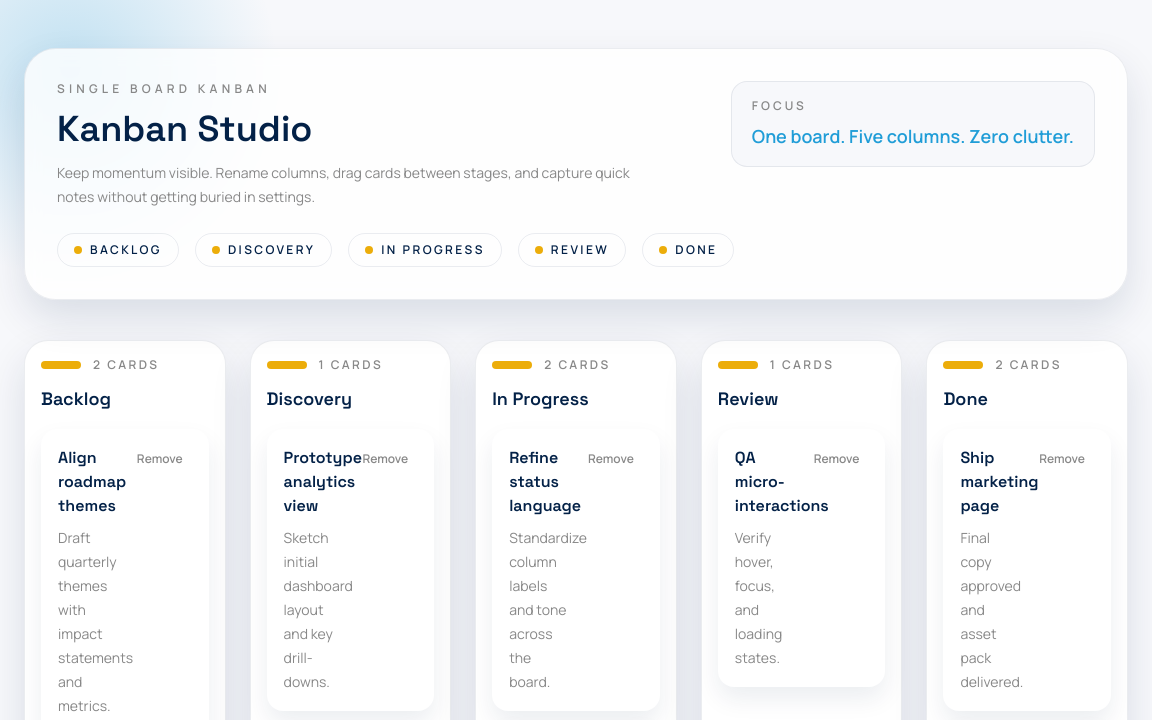
it: KanbanBoard › edits a card's details inline
Click the text "Draft quarterly themes with impact statements and metrics.": (87, 622) [58,526,116,718]
(page scrolled)
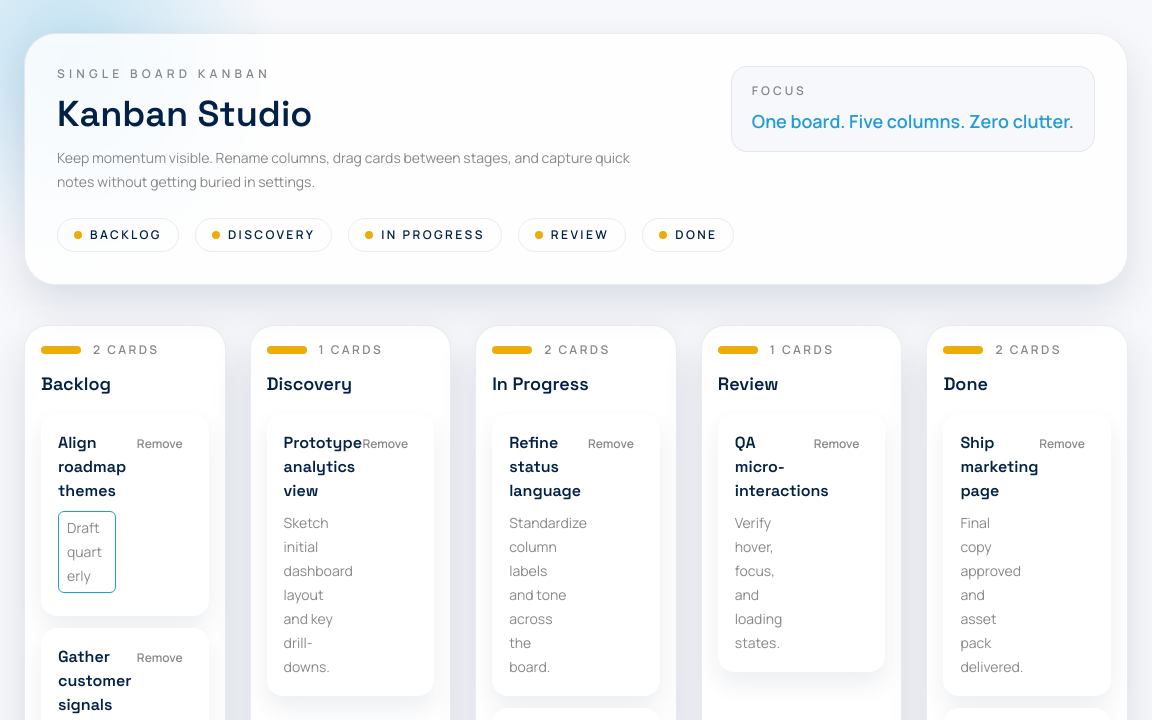
Replace the text in the text box named "Card details" with "Updated details": (87, 552) [58,511,116,593]
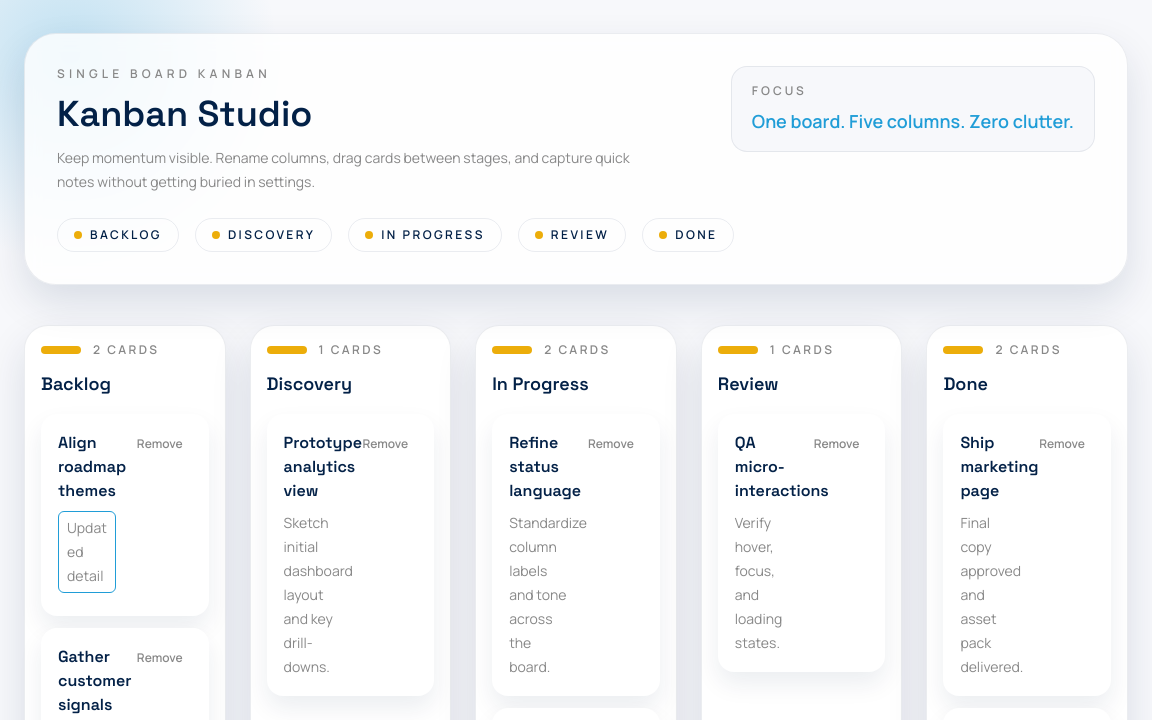
Press Tab
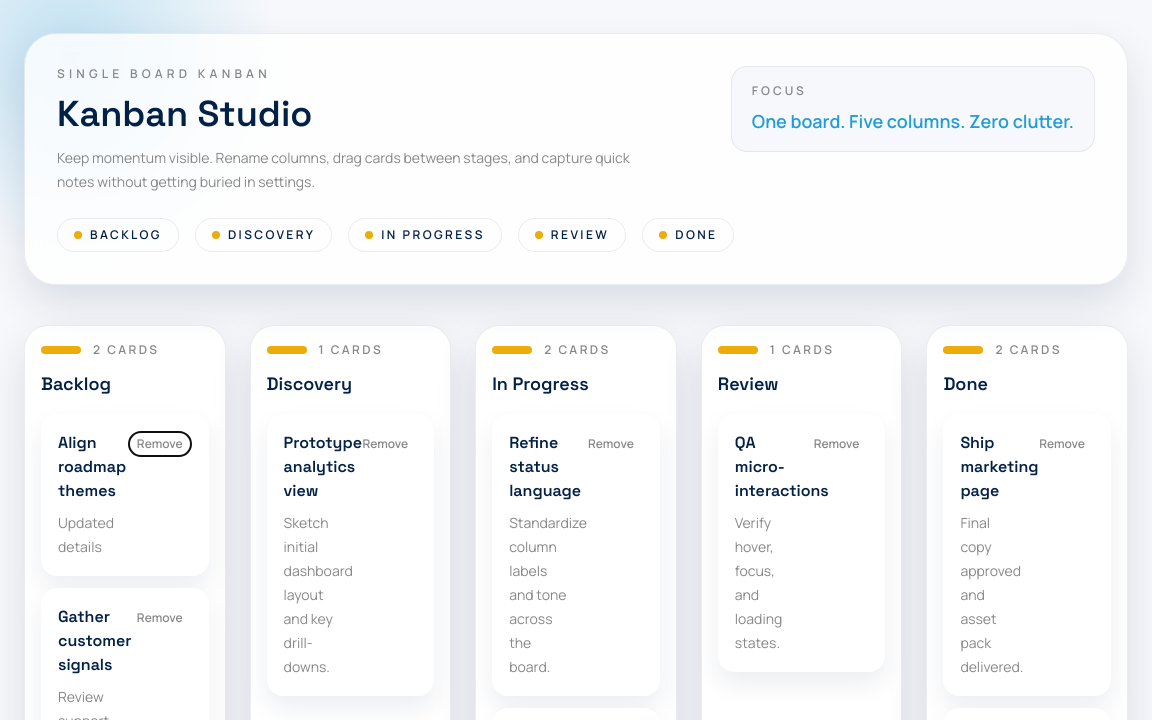
Check: the text "Updated details" is shown, box [58,511,116,559]
